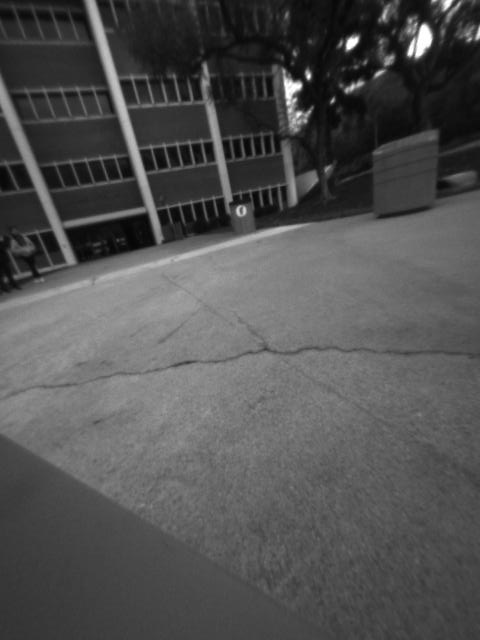trashcan: (369, 125, 440, 217), (227, 199, 260, 237)
